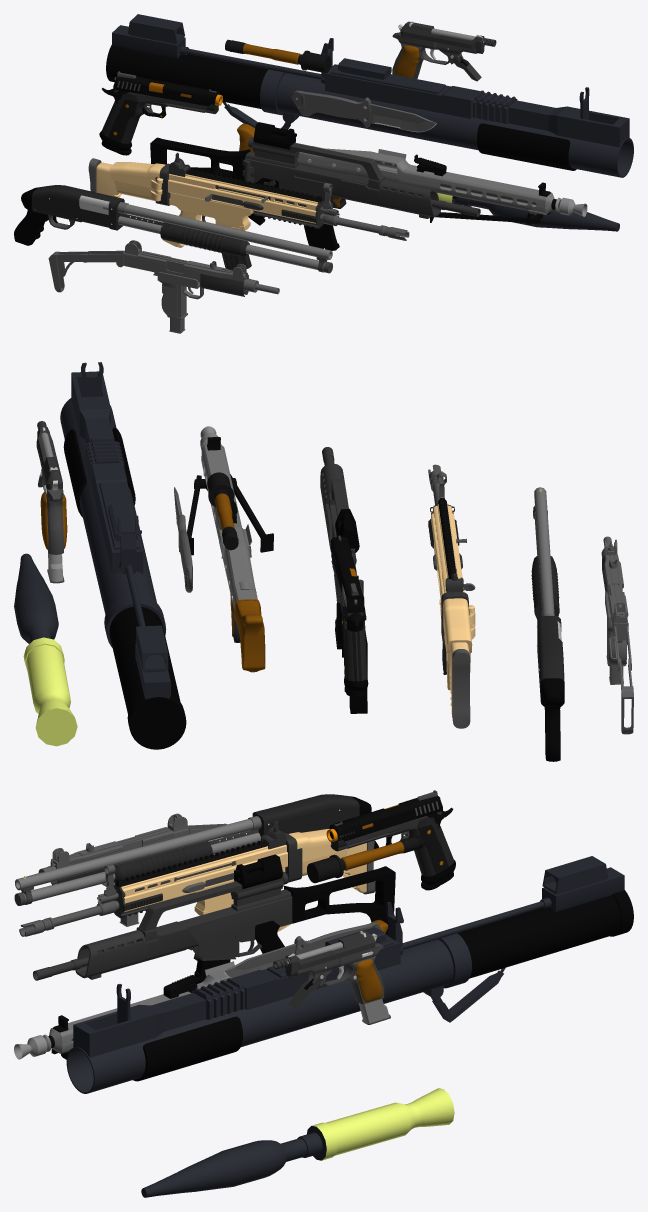
The model's file is weapon_pack_of_10100_part_1.glb.
3 views of the same model, one above another, from view 1: azimuth 30°, elevation 25°; view 2: azimuth 150°, elevation 25°; view 3: azimuth 270°, elevation 25° (orthographic). The views are drawn at different scales.
Visible parts, largest first — view 1: M_72_LAW, FN_SCAR_L, G36_K, Maverick_88, MG42, UZI, Tarran_Tactical, Baretta_93_R, Gerber_LMF, Cylinder.016, M24_Stick_Grenade; view 2: M_72_LAW, Cylinder.016, FN_SCAR_L, MG42, Maverick_88, Tarran_Tactical, UZI, G36_K, Baretta_93_R, M24_Stick_Grenade, Gerber_LMF; view 3: M_72_LAW, G36_K, FN_SCAR_L, Cylinder.016, Maverick_88, Tarran_Tactical, Baretta_93_R, MG42, UZI, M24_Stick_Grenade, Gerber_LMF.
Boxes of the visible parts, bbox=[...] form: M_72_LAW: bbox=[106, 14, 633, 177]; FN_SCAR_L: bbox=[88, 152, 409, 270]; G36_K: bbox=[150, 122, 480, 250]; Maverick_88: bbox=[14, 185, 332, 273]; MG42: bbox=[237, 123, 587, 224]; UZI: bbox=[48, 240, 279, 333]; Tarran_Tactical: bbox=[99, 71, 222, 155]; Baretta_93_R: bbox=[392, 21, 496, 81]; Gerber_LMF: bbox=[291, 90, 436, 132]; Cylinder.016: bbox=[437, 193, 619, 231]; M24_Stick_Grenade: bbox=[225, 39, 331, 73]; M_72_LAW: bbox=[60, 362, 186, 749]; Cylinder.016: bbox=[14, 553, 77, 746]; FN_SCAR_L: bbox=[428, 464, 475, 728]; MG42: bbox=[180, 426, 273, 672]; Maverick_88: bbox=[531, 487, 564, 761]; Tarran_Tactical: bbox=[330, 535, 368, 696]; UZI: bbox=[601, 536, 633, 734]; G36_K: bbox=[320, 447, 367, 713]; Baretta_93_R: bbox=[36, 421, 67, 583]; M24_Stick_Grenade: bbox=[207, 472, 238, 550]; Gerber_LMF: bbox=[174, 487, 192, 592]; M_72_LAW: bbox=[66, 856, 633, 1093]; G36_K: bbox=[33, 854, 395, 983]; FN_SCAR_L: bbox=[19, 820, 375, 960]; Cylinder.016: bbox=[141, 1088, 454, 1197]; Maverick_88: bbox=[14, 794, 378, 905]; Tarran_Tactical: bbox=[326, 790, 455, 890]; Baretta_93_R: bbox=[273, 931, 390, 1024]; MG42: bbox=[14, 919, 387, 1059]; UZI: bbox=[22, 813, 249, 926]; M24_Stick_Grenade: bbox=[307, 835, 423, 883]; Gerber_LMF: bbox=[223, 922, 381, 978].
Bounding box in the file's own units: 60.56 × 20.82 × 52.84.
2 materials, 2 textured.
